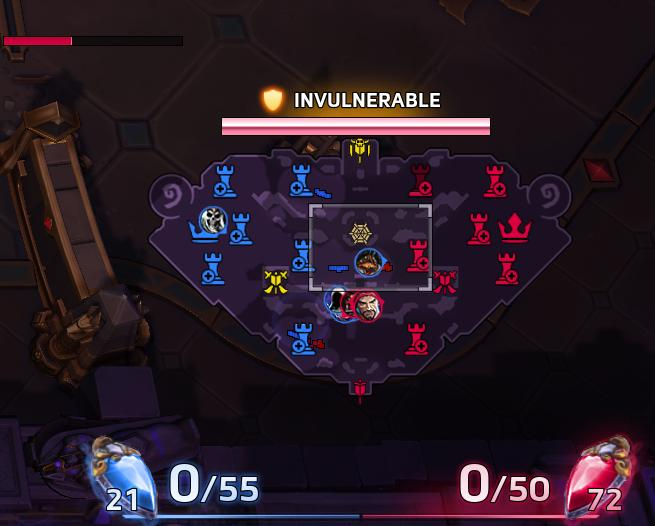blue nexus: (187, 217, 220, 243)
blue player: (323, 285, 357, 322), (353, 247, 385, 277), (198, 205, 227, 235)
blue tower: (286, 321, 316, 355), (200, 251, 226, 285), (290, 237, 315, 272), (212, 163, 237, 198), (228, 211, 253, 245), (288, 163, 313, 197)
red nexus: (497, 211, 533, 243)
red player: (350, 291, 383, 323), (339, 289, 365, 320)
red tower: (407, 162, 433, 197), (494, 250, 519, 286), (466, 210, 491, 245), (405, 238, 430, 272), (403, 321, 428, 355), (482, 163, 506, 198)
